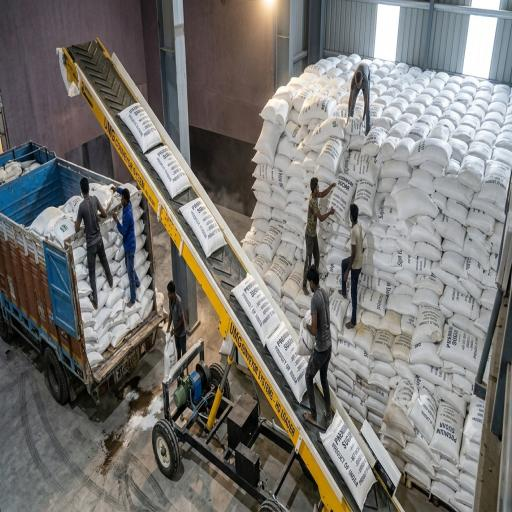c-belt-sack-count: (320, 412, 375, 509), (232, 275, 280, 345), (267, 322, 306, 402), (179, 199, 226, 257), (147, 146, 190, 197), (120, 103, 161, 152)
